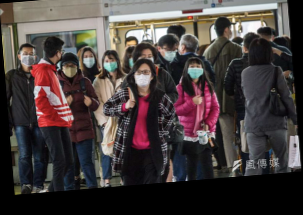with_mask: (134, 68, 153, 89), (20, 49, 38, 67), (187, 63, 205, 80), (102, 57, 119, 74), (162, 45, 179, 62), (61, 63, 79, 79), (137, 52, 155, 67), (82, 53, 96, 69), (127, 54, 136, 70)
